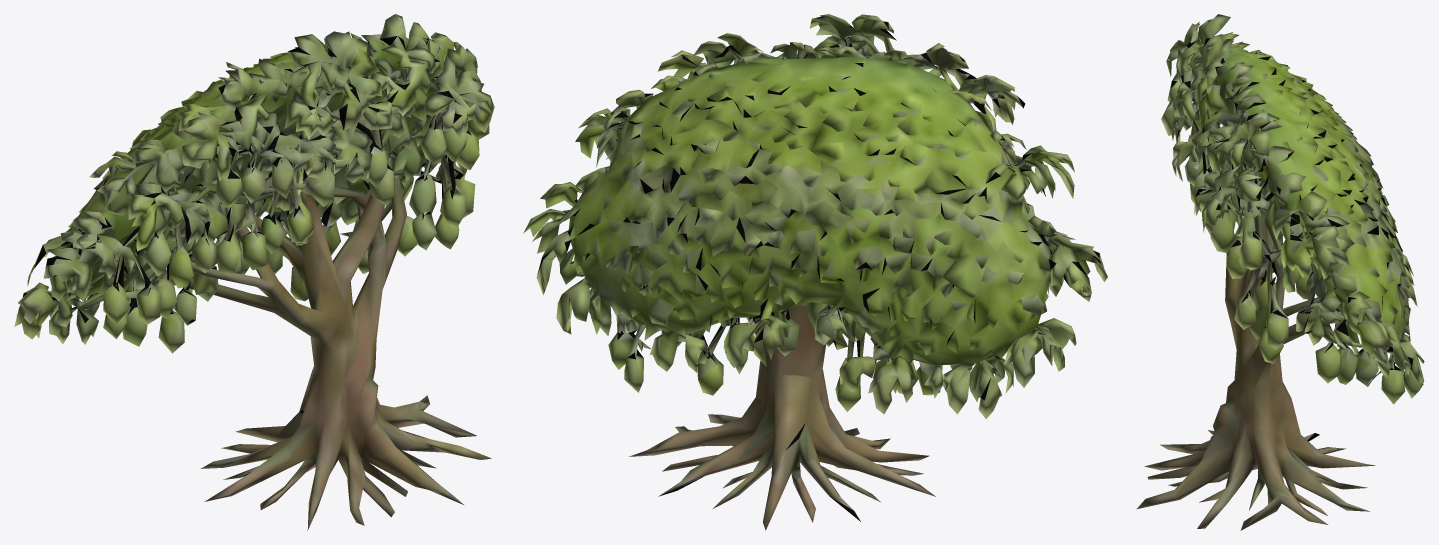
Rendered from gourd-prop-mango-tree-3d.glb.
3 renders of one model, left to right at view 1: azimuth 30°, elevation 25°; view 2: azimuth 150°, elevation 25°; view 3: azimuth 270°, elevation 25°, orthographic. The views are drawn at different scales.
Parts seen in each view (by area): view 1: low; view 2: low; view 3: low.
Boxes of the visible parts, <box> form: low: <box>14,14,494,530</box>; low: <box>523,14,1107,530</box>; low: <box>1136,14,1424,530</box>.
Size of the model in its own units: 0.549 by 0.48 by 0.2957.
Materials: 1 (1 with a texture image).
